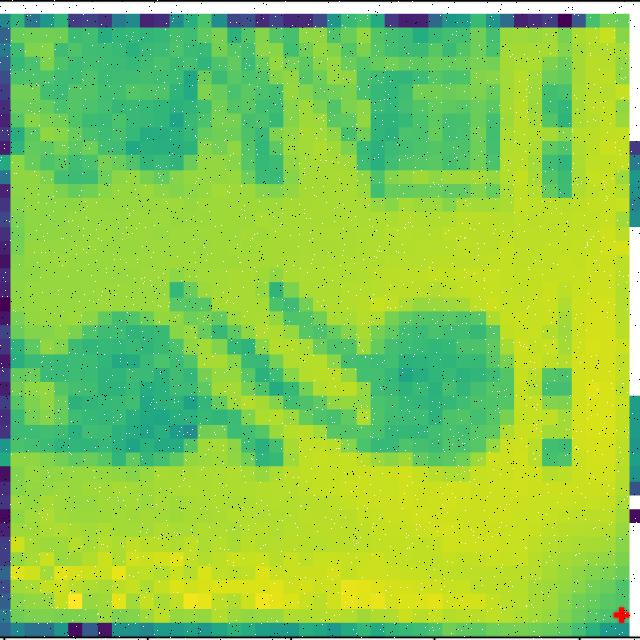Concrete: (56, 34, 254, 196)
Glass: (328, 289, 525, 496)
Metal: (39, 287, 216, 496)
Wood: (348, 30, 532, 208)
